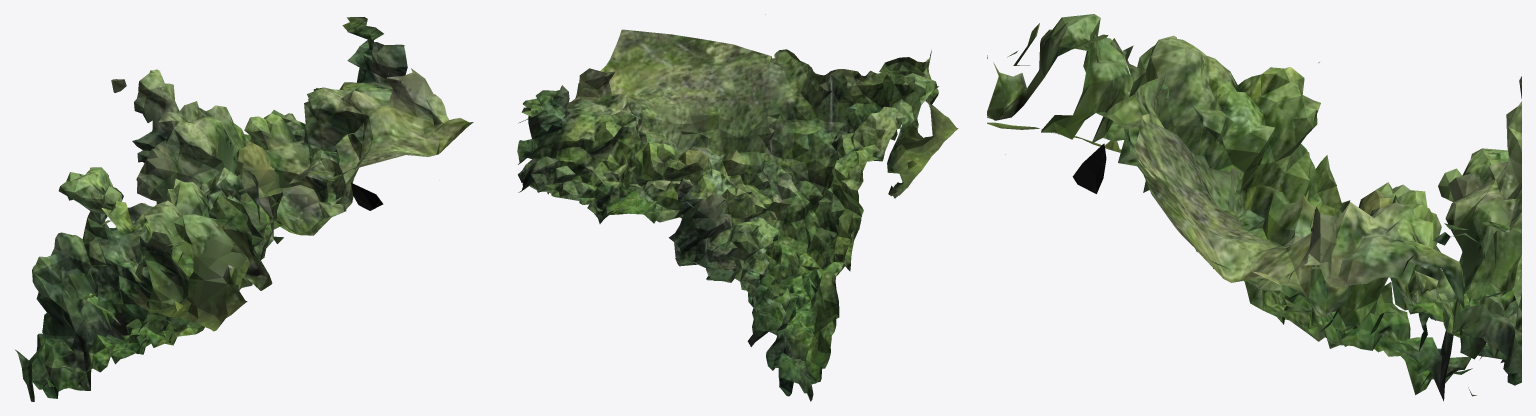
The picture shows the model from 3 angles, left to right: view 1: azimuth 30°, elevation 25°; view 2: azimuth 150°, elevation 25°; view 3: azimuth 270°, elevation 25°; orthographic projection. The views are drawn at different scales.
Size of the model in its own units: 52.22 by 42.37 by 52.22.
5 materials, 5 textured.
